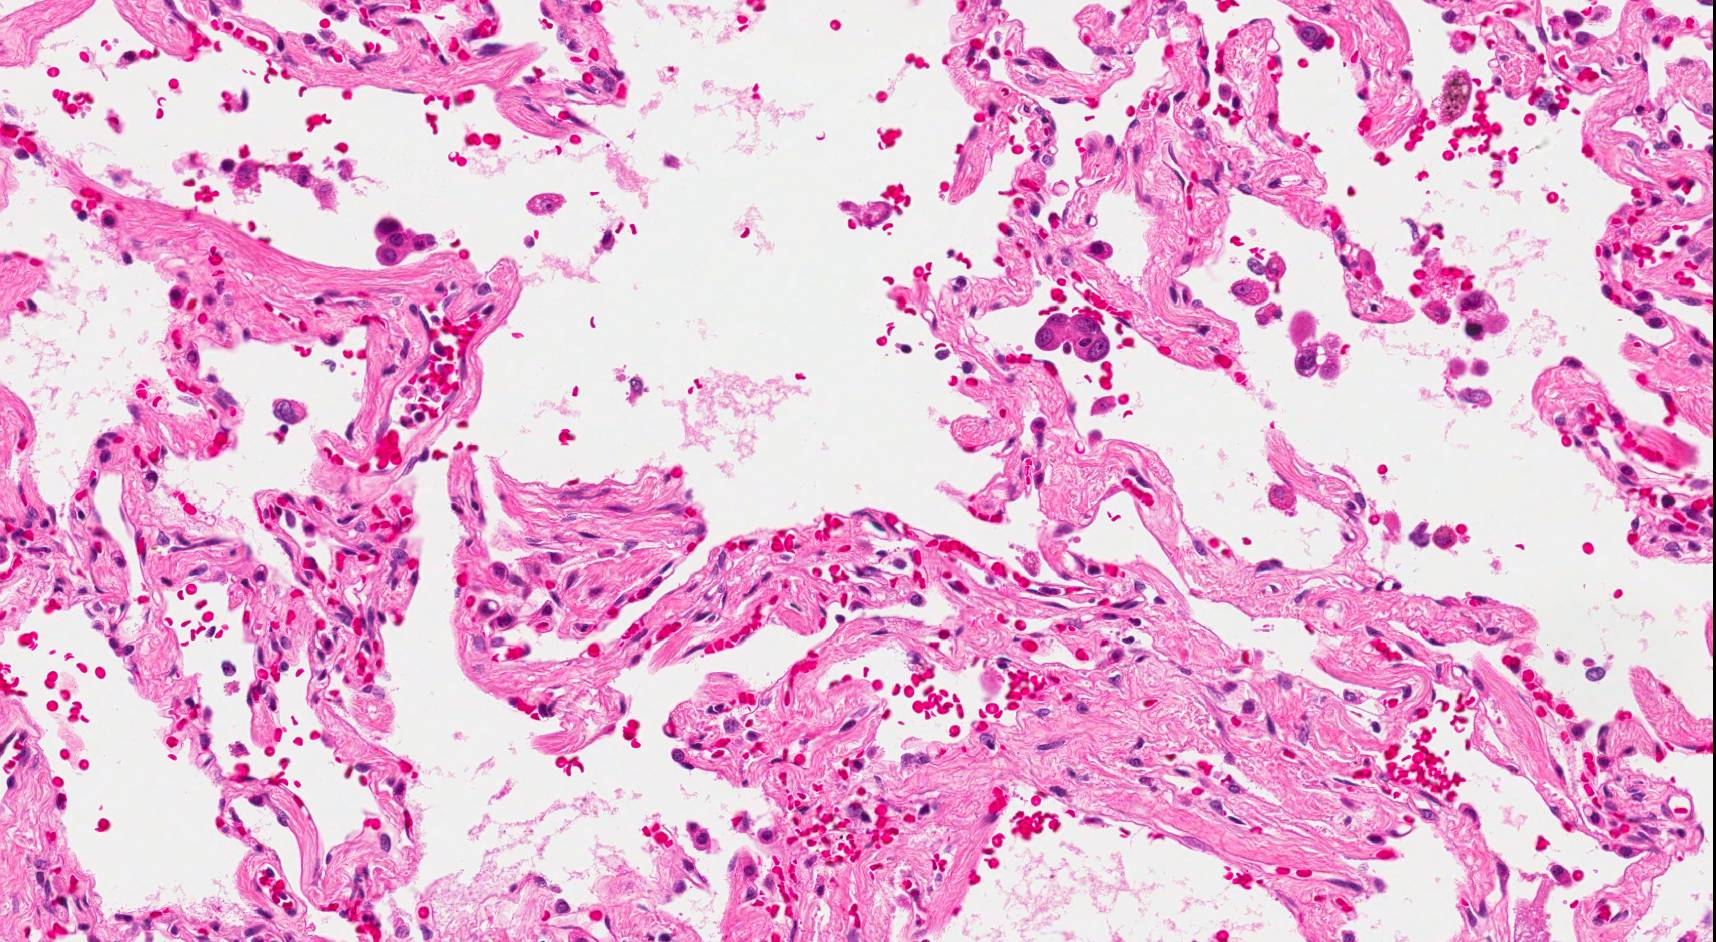stas: (1034, 313, 1111, 365), (373, 215, 435, 267)
